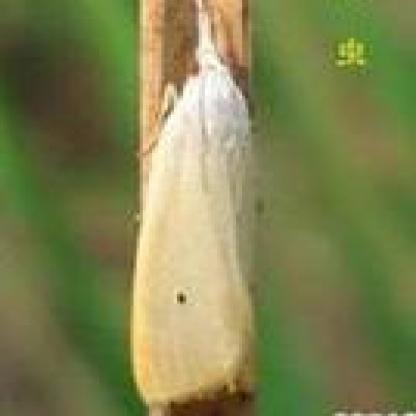stem-borer: (128, 0, 262, 411)
